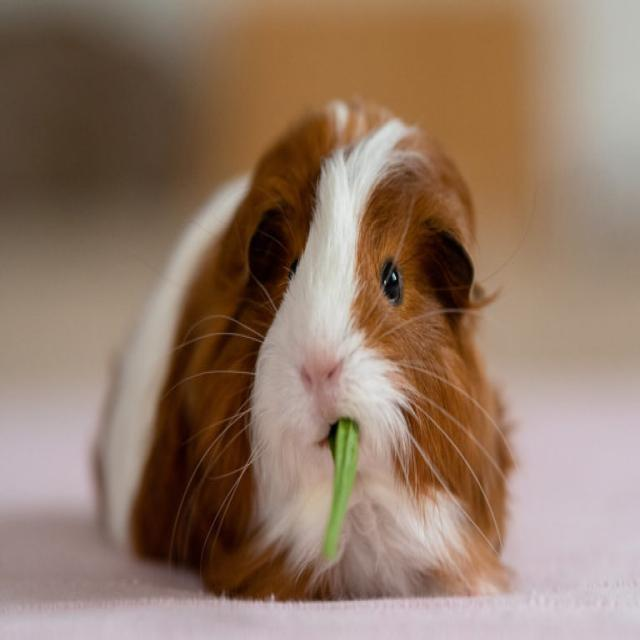guinea pig: (97, 100, 508, 604)
